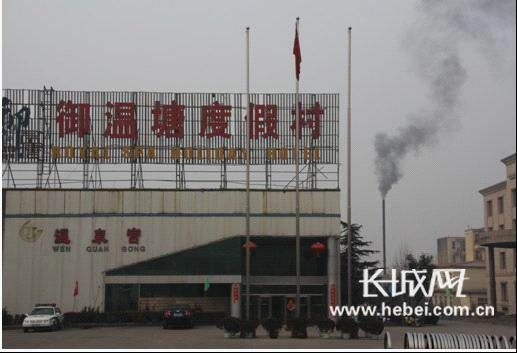dust: (368, 108, 432, 201)
